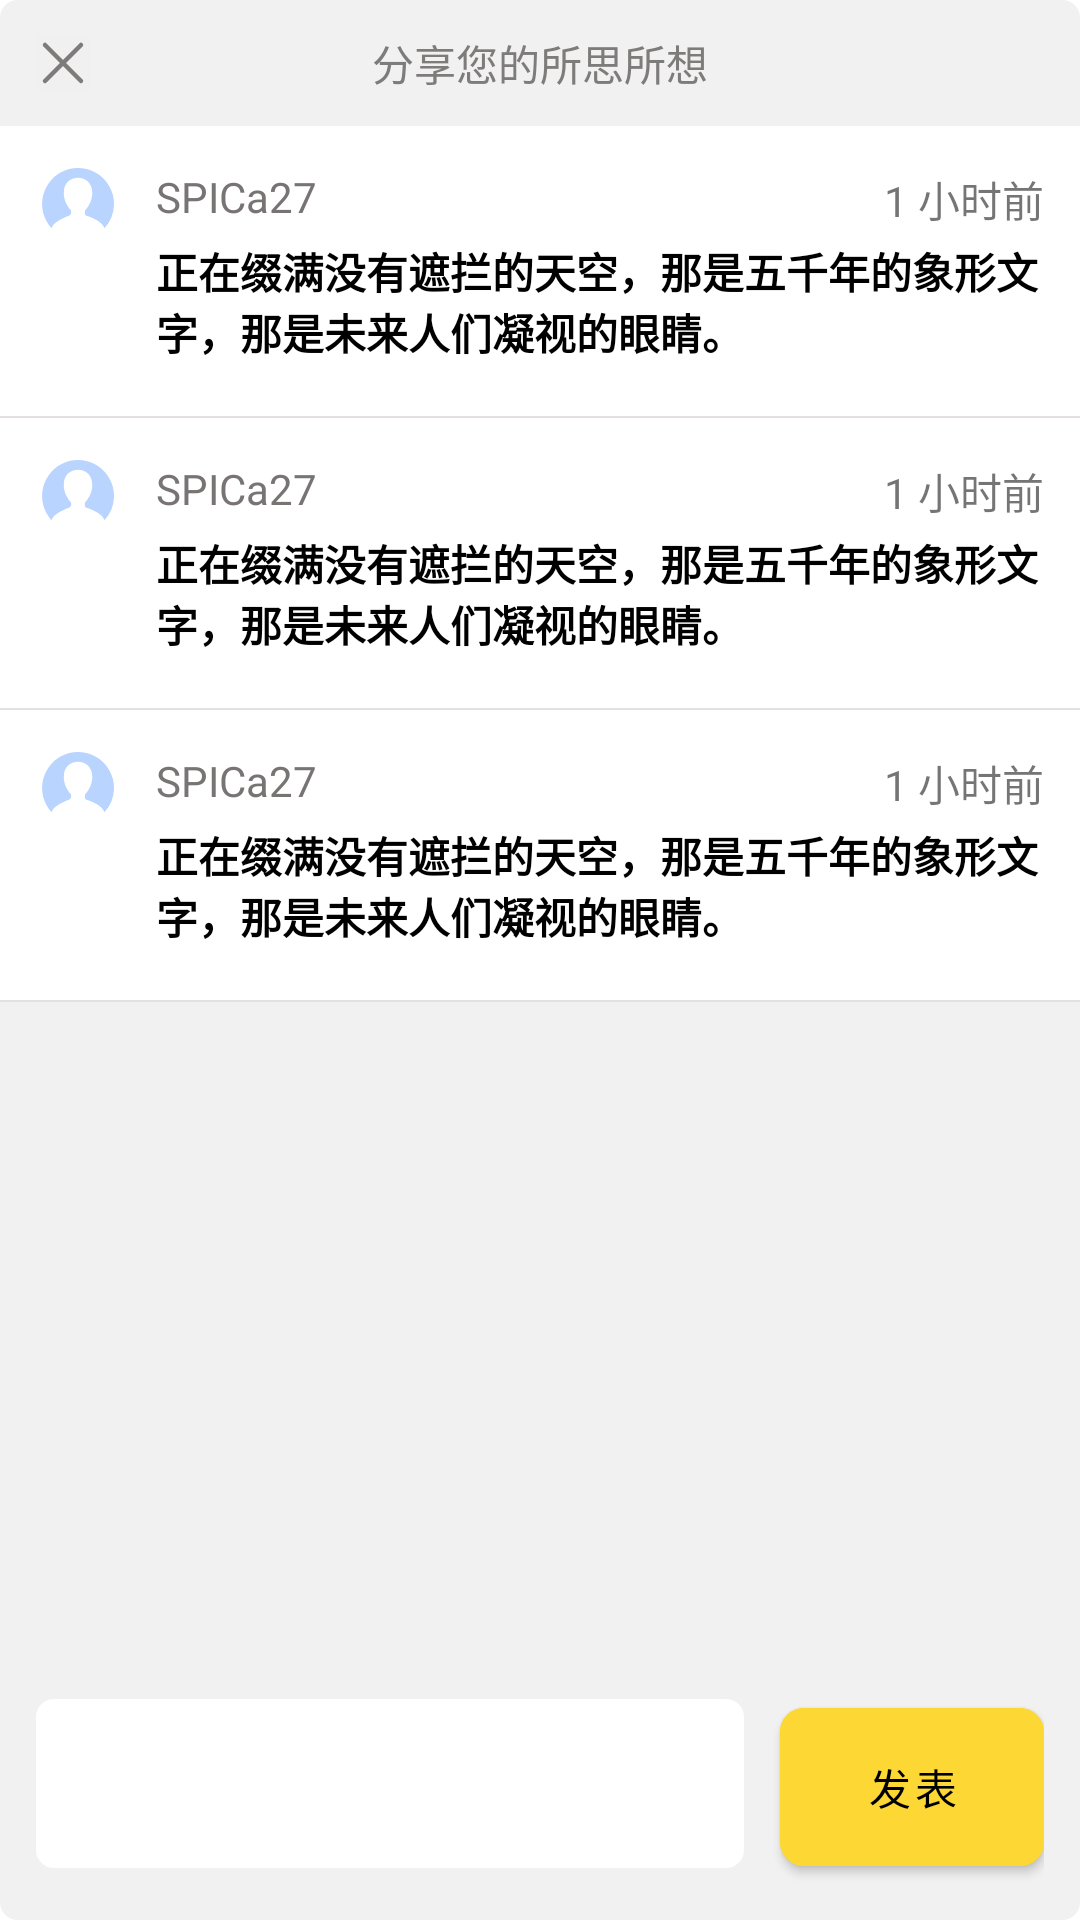

Icons on this 1080 × 1920 Android screen, each with the point to tap as (x=x, y=y):
close: (x=63, y=62)
